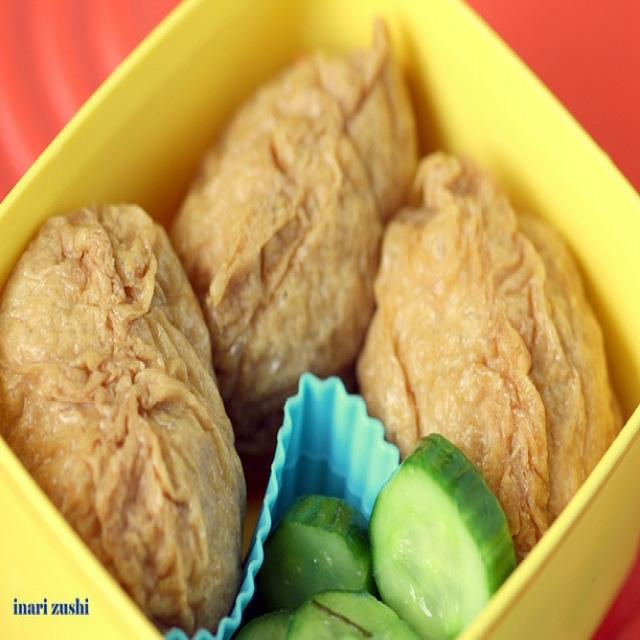寿司卷物: (5, 31, 616, 615)
